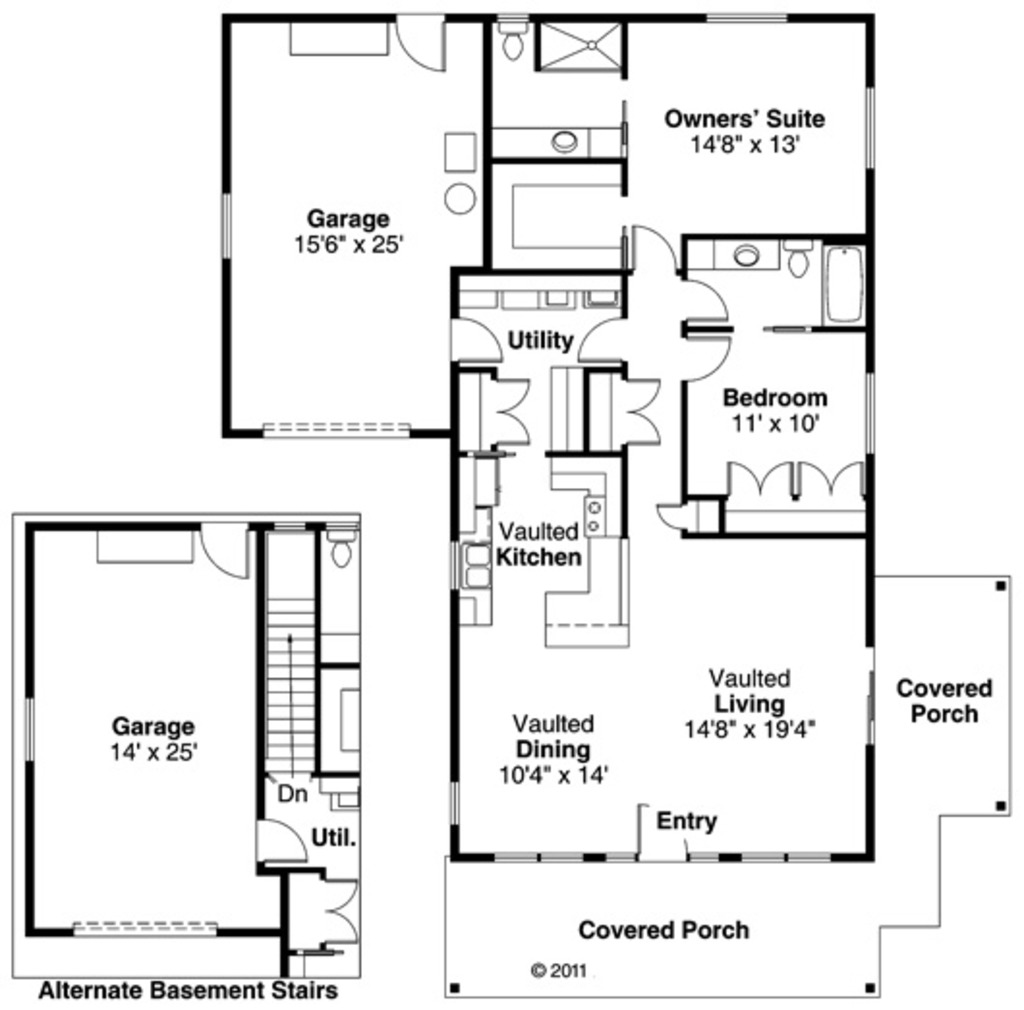door: (191, 513, 255, 580), (673, 327, 739, 390), (631, 799, 691, 866), (389, 10, 451, 74), (484, 376, 536, 451), (616, 368, 661, 449), (317, 876, 373, 941), (714, 457, 787, 505), (620, 219, 681, 273), (794, 455, 859, 505), (253, 815, 319, 863), (569, 307, 622, 365), (448, 313, 506, 365), (678, 271, 733, 324), (659, 494, 694, 546)
large_sink: (487, 13, 542, 76), (317, 515, 372, 573), (780, 230, 819, 285)
small_sink: (708, 230, 776, 273), (531, 130, 591, 160)
stairs: (256, 521, 322, 788)
tub: (819, 234, 872, 327)
twin_sink: (442, 534, 514, 599)
window: (66, 916, 220, 941), (737, 846, 841, 873), (489, 846, 592, 873), (211, 187, 251, 255), (706, 2, 786, 32), (16, 693, 48, 762), (858, 371, 878, 454), (864, 90, 881, 171)
